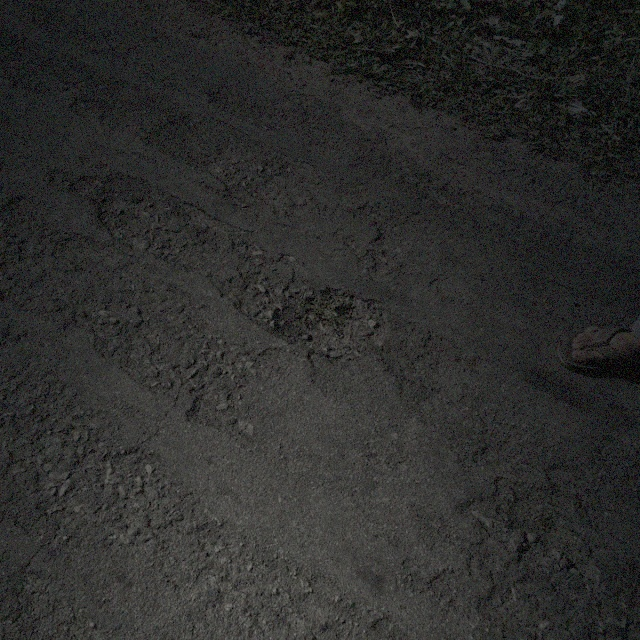pothole: (255, 284, 386, 364)
